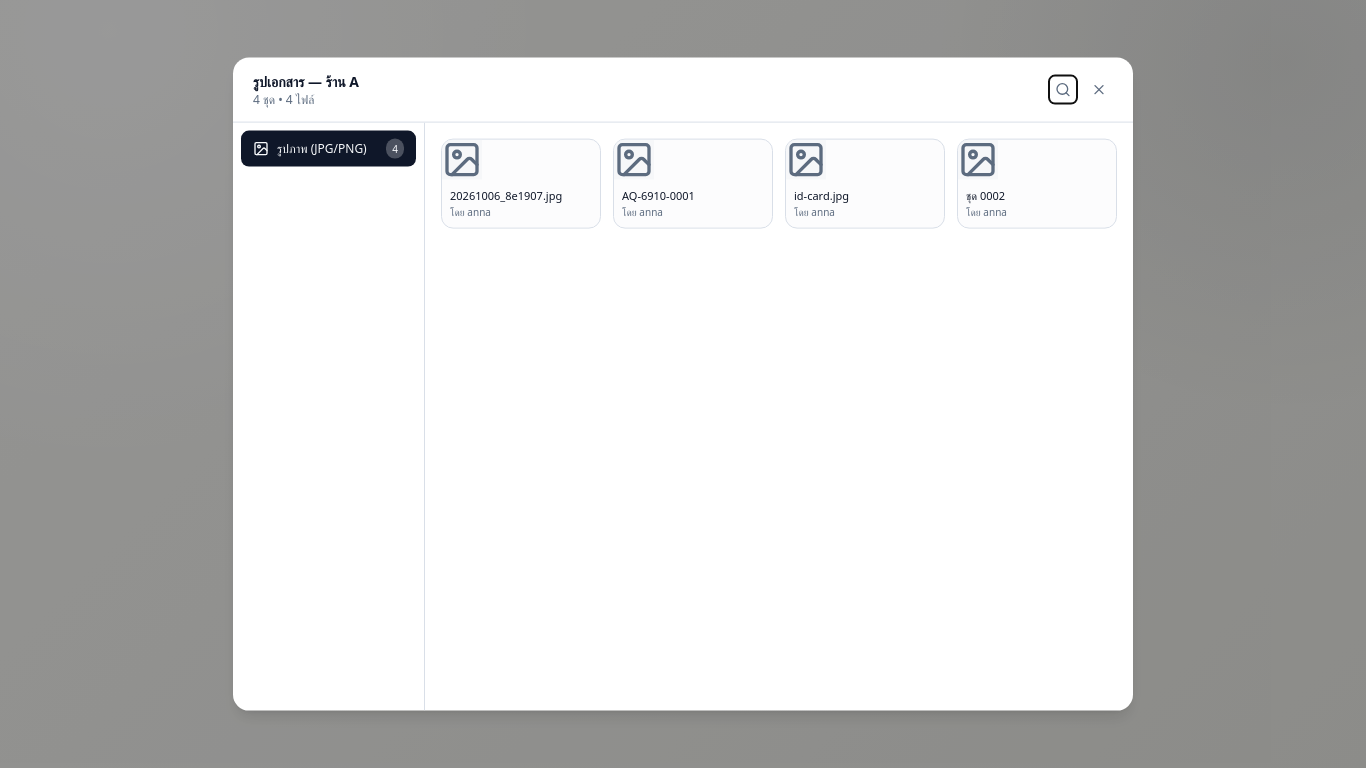
Test case: ImageGalleryDialog search › filters sets by document number or file name, case-insensitively
Step 1. Click the button named "ค้นหาในรูปเอกสาร" → (1063, 90), box [1049,76,1077,104]
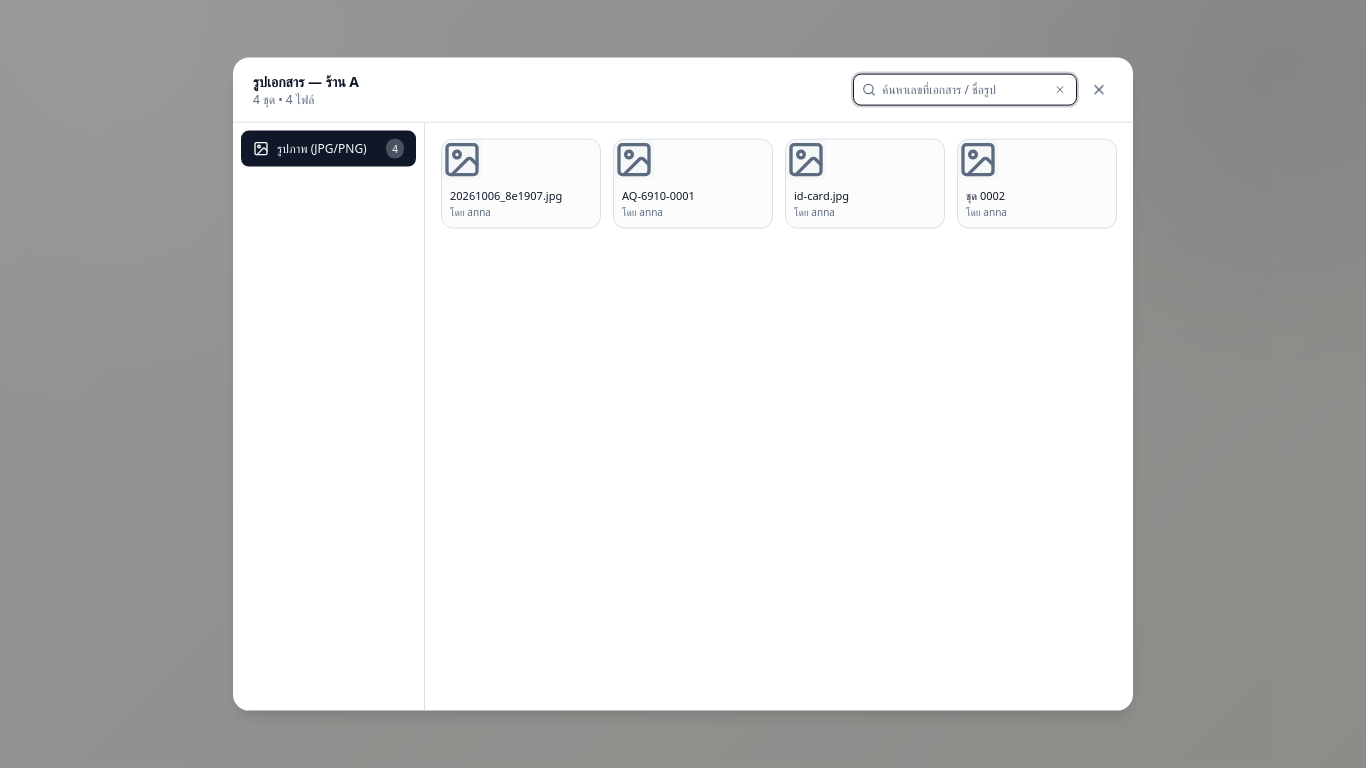
Step 2. Type "aq-6910" into the search field named "ค้นหาเลขที่เอกสารหรือชื่อรูป" → (964, 90), box [882,82,1046,98]
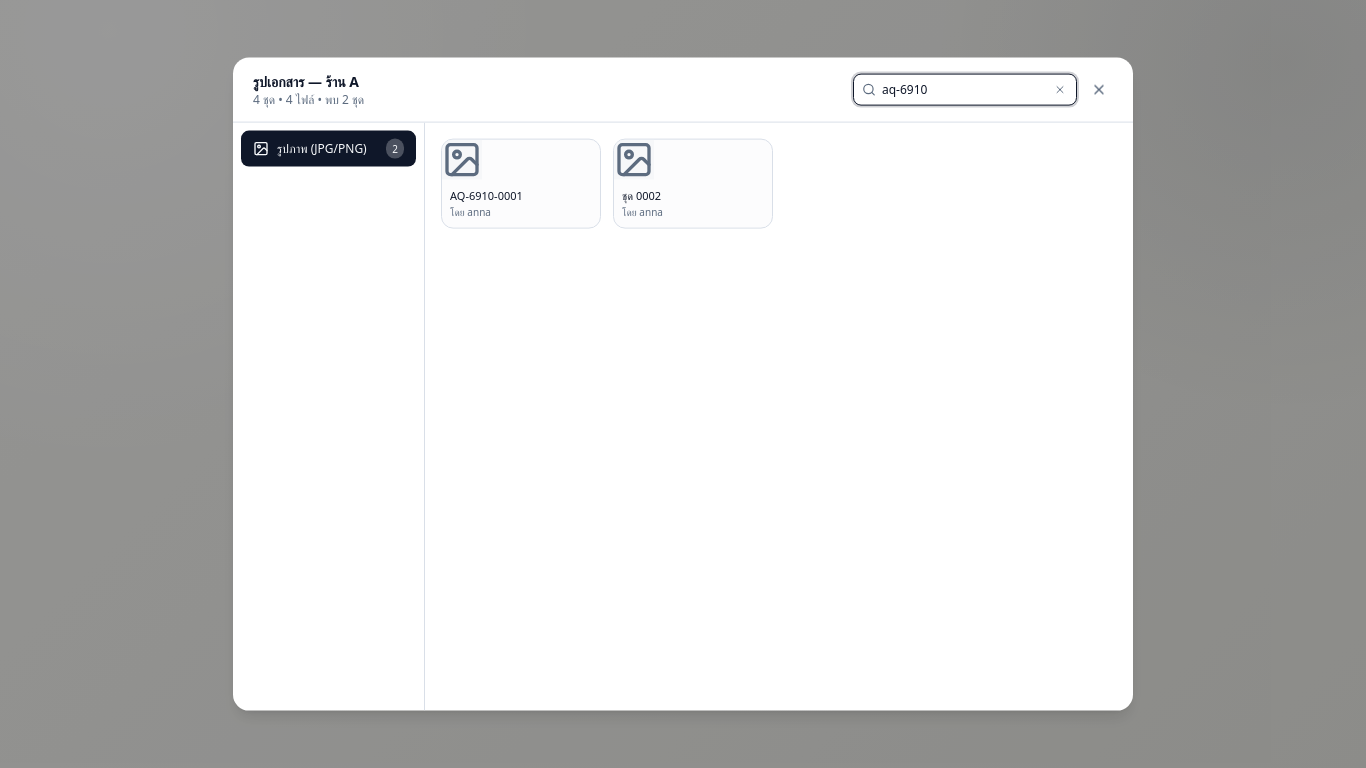
Expected: the text "AQ-6910-0001" is shown, [450,188,523,204]
Result: the button "id-card.jpg" is gone
Step 3. Replace the text in the search field named "ค้นหาเลขที่เอกสารหรือชื่อรูป" with "8E1907" → (964, 90), box [882,82,1046,98]
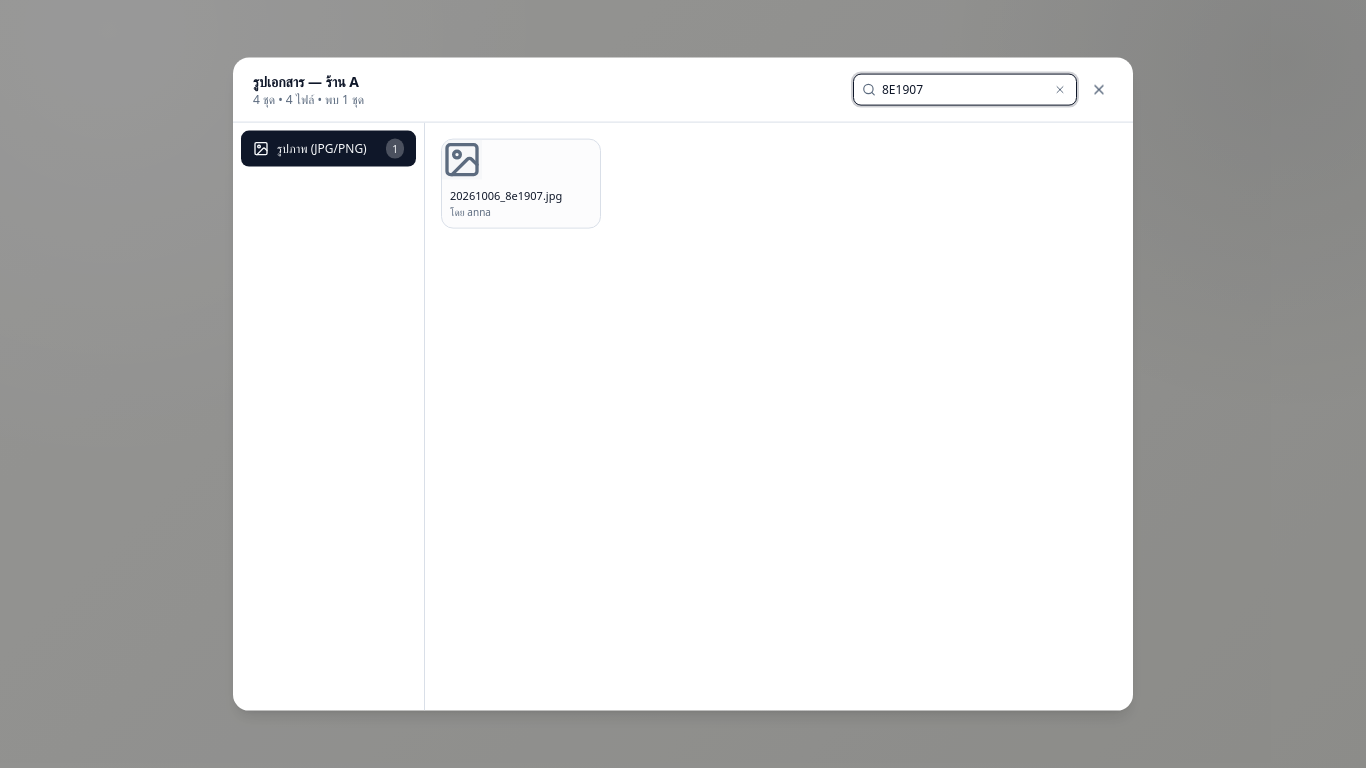
Result: the text "20261006_8e1907.jpg" is shown at [450,188,562,204]
Result: the button "AQ-6910-0001" is gone
Note: A grouped set is found by its set name as well as its document number.
Step 4. Replace the text in the search field named "ค้นหาเลขที่เอกสารหรือชื่อรูป" with "ชุด 0002" → (964, 90), box [882,82,1046,98]
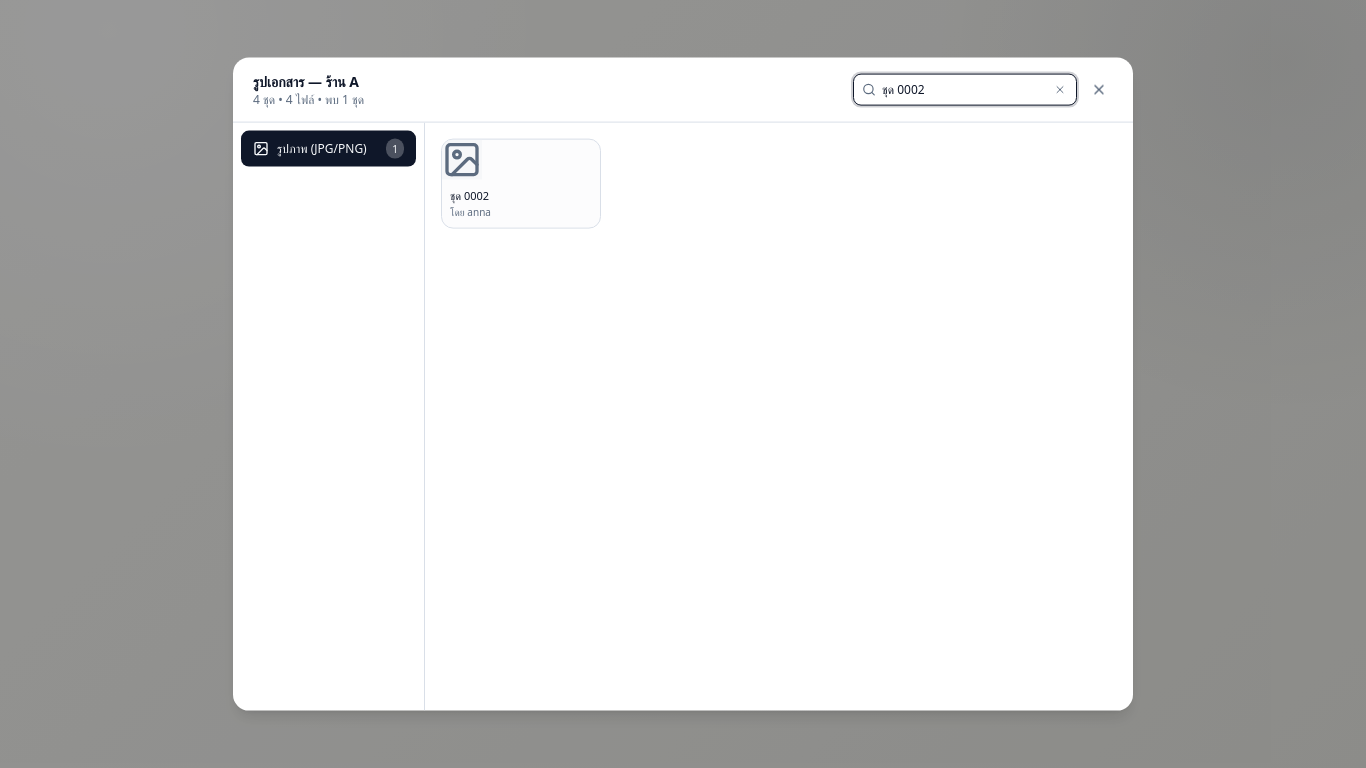
Expected: the button "AQ-6910-0001" is not shown
Result: the text "ชุด 0002" is shown at [450,188,491,204]
Step 5. Replace the text in the search field named "ค้นหาเลขที่เอกสารหรือชื่อรูป" with "zzz" → (964, 90), box [882,82,1046,98]
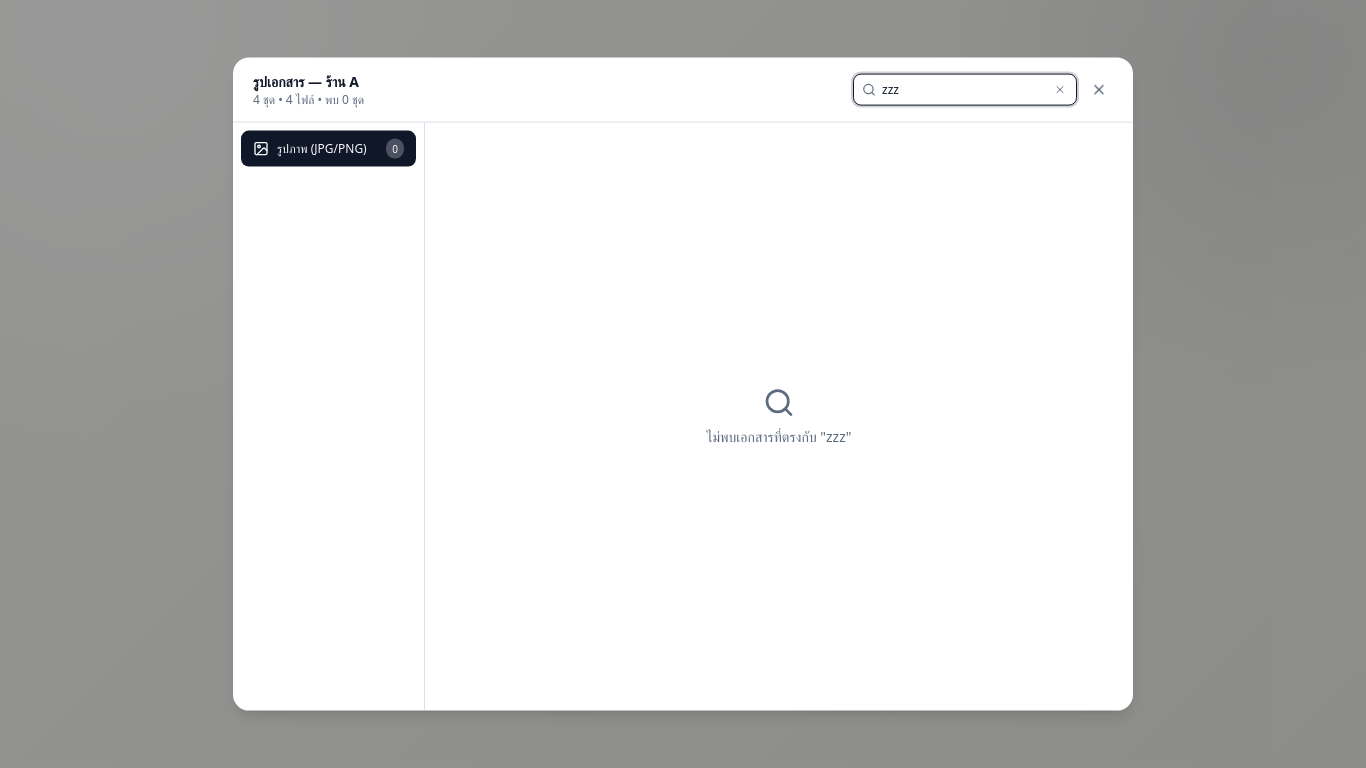
Result: the text "ไม่พบเอกสารที่ตรงกับ \"zzz\"" is shown at [706,426,851,446]
Note: Closing the search clears it, so no hidden filter is left behind.
Step 6. Click the button named "ปิดการค้นหา" → (1060, 90), box [1052,82,1068,98]
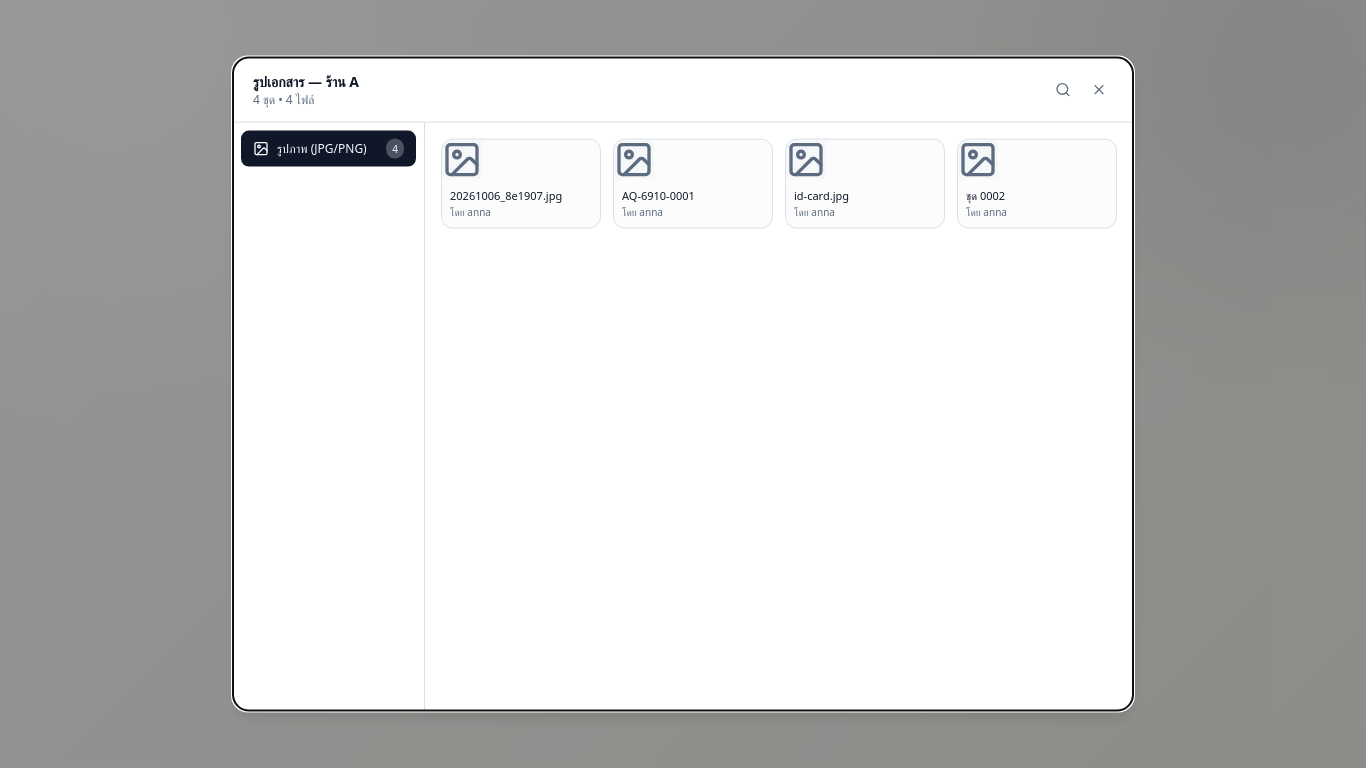
Result: the text "id-card.jpg" is shown at [794,188,849,204]
